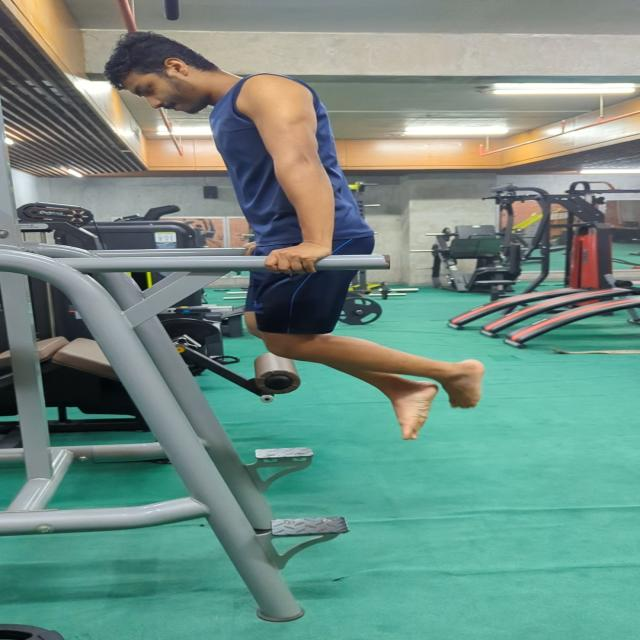Normal_Dips: (92, 22, 527, 448)
